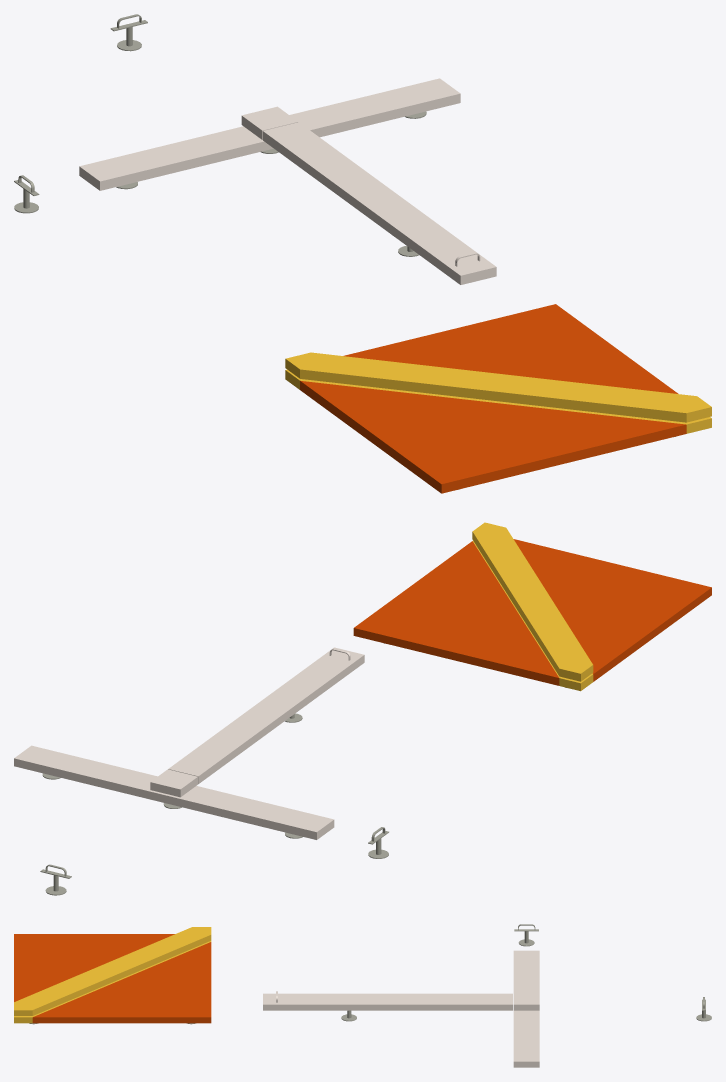
Rendered from LSZN-signals.gltf.
3 renders of one model, top to bottom at view 1: azimuth 30°, elevation 25°; view 2: azimuth 150°, elevation 25°; view 3: azimuth 270°, elevation 25°, orthographic. The views are drawn at different scales.
Visible parts, largest first — view 1: Box007, Box008, Box001, Box003, Box002; view 2: Box007, Box001, Box003, Box008, Box002; view 3: Box007, Box003, Box008, Box001, Box002.
Part boxes in pixels (x1,y1,x2,y2): Box007: (285, 304, 711, 493); Box008: (285, 352, 711, 422); Box001: (79, 78, 460, 190); Box003: (263, 122, 496, 284); Box002: (241, 106, 297, 139); Box007: (353, 539, 711, 691); Box001: (14, 745, 334, 839); Box003: (168, 647, 364, 784); Box008: (472, 522, 593, 681); Box002: (150, 769, 197, 797); Box007: (14, 934, 211, 1023); Box003: (263, 993, 512, 1010); Box008: (14, 927, 211, 1015); Box001: (513, 950, 539, 1067); Box002: (513, 993, 539, 1010).
Bounding box in the file's own units: 4.82 × 0.41 × 10.62.
